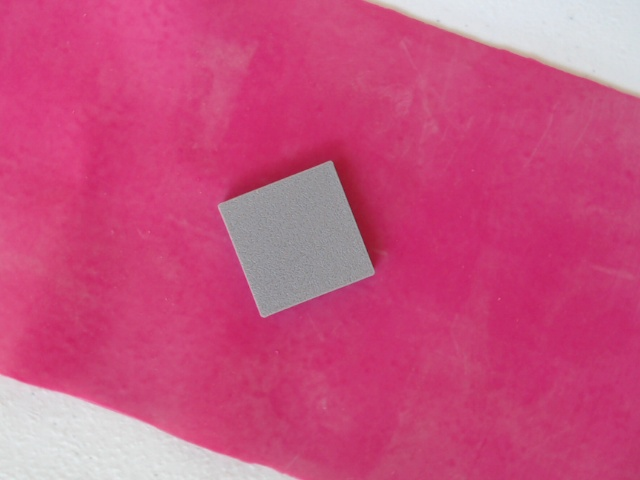Defective: (215, 158, 379, 324)
